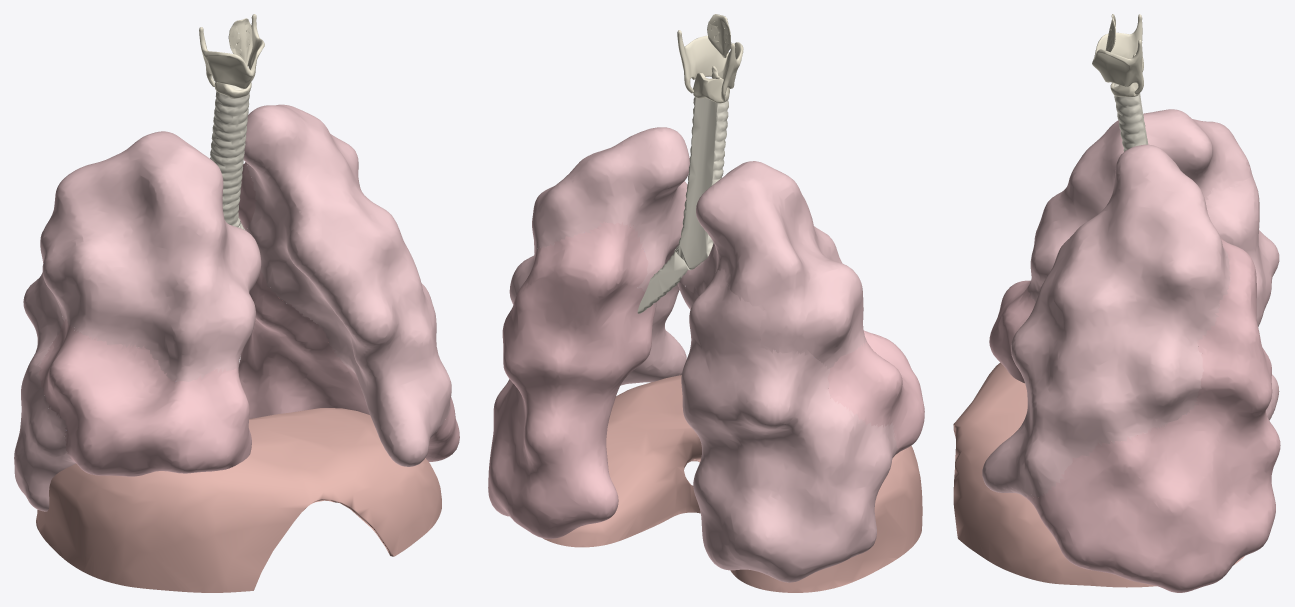
File: lungs.glb
3 renders of one model, left to right at view 1: azimuth 30°, elevation 25°; view 2: azimuth 150°, elevation 25°; view 3: azimuth 270°, elevation 25°, orthographic. The views are drawn at different scales.
Parts seen in each view (by area): view 1: diaphragm, right_upper, left_upper, right_middle, left_lower, right_lower, trachea, larynx; view 2: right_lower, left_lower, right_upper, diaphragm, left_upper, right_middle, trachea, larynx, bronchi; view 3: left_upper, left_lower, diaphragm, right_upper, right_lower, larynx, right_middle, trachea.
Part boxes in pixels (x1,y1,x2,y2): diaphragm: [36, 408, 441, 592]; right_upper: [40, 131, 261, 382]; left_upper: [243, 104, 451, 466]; right_middle: [38, 318, 251, 476]; left_lower: [238, 162, 459, 461]; right_lower: [14, 272, 75, 511]; trachea: [210, 84, 249, 227]; larynx: [199, 14, 264, 98]; right_lower: [677, 268, 897, 582]; left_lower: [488, 221, 655, 538]; right_upper: [679, 161, 866, 369]; diaphragm: [543, 375, 922, 592]; left_upper: [509, 127, 689, 385]; right_middle: [827, 330, 924, 454]; trachea: [675, 97, 728, 270]; larynx: [677, 14, 743, 103]; bronchi: [637, 250, 703, 313]; left_upper: [982, 144, 1230, 497]; left_lower: [1024, 238, 1280, 592]; diaphragm: [953, 362, 1244, 587]; right_upper: [1028, 109, 1252, 301]; right_lower: [1205, 175, 1279, 420]; larynx: [1092, 14, 1143, 97]; right_middle: [989, 280, 1035, 383]; trachea: [1114, 83, 1148, 151].
Size of the model in its own units: 0.2623 by 0.3247 by 0.195.
